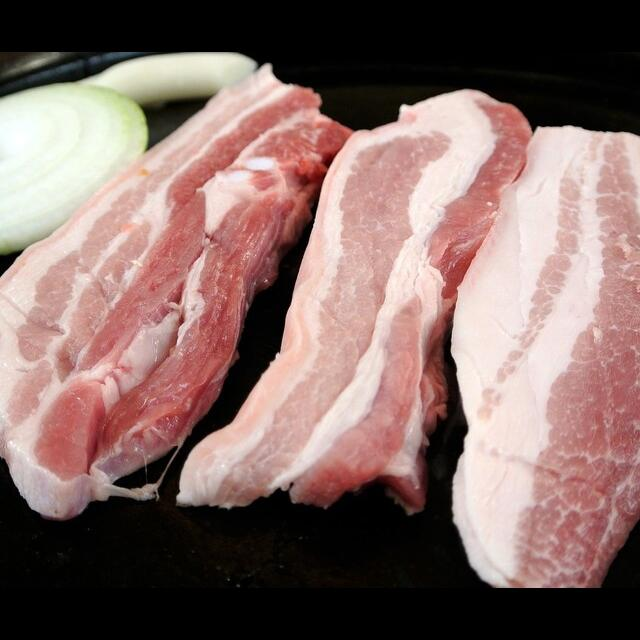beef: (0, 62, 353, 512), (175, 85, 534, 510), (449, 123, 640, 588)
